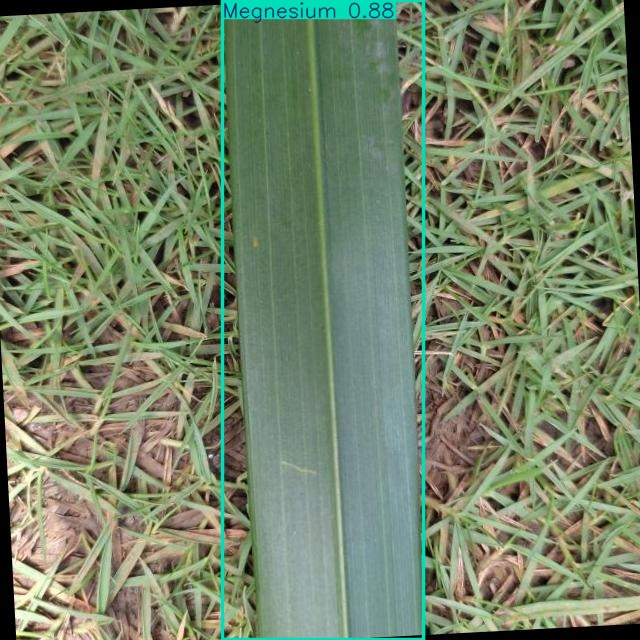Megnesium: (222, 0, 423, 639)
